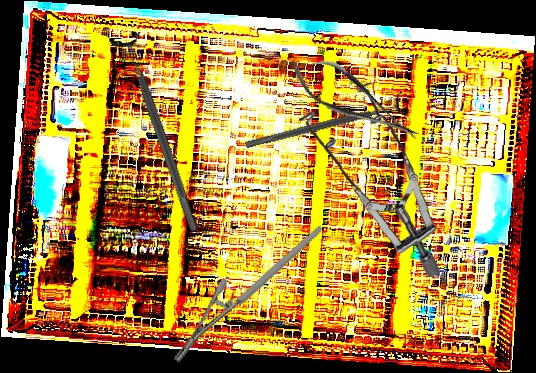Fixation Ring: (107, 28, 210, 238), (242, 90, 408, 157)
Micro Scissor: (279, 42, 429, 158)
Needle Holder: (147, 225, 349, 365)
Speculum: (291, 79, 450, 278)
